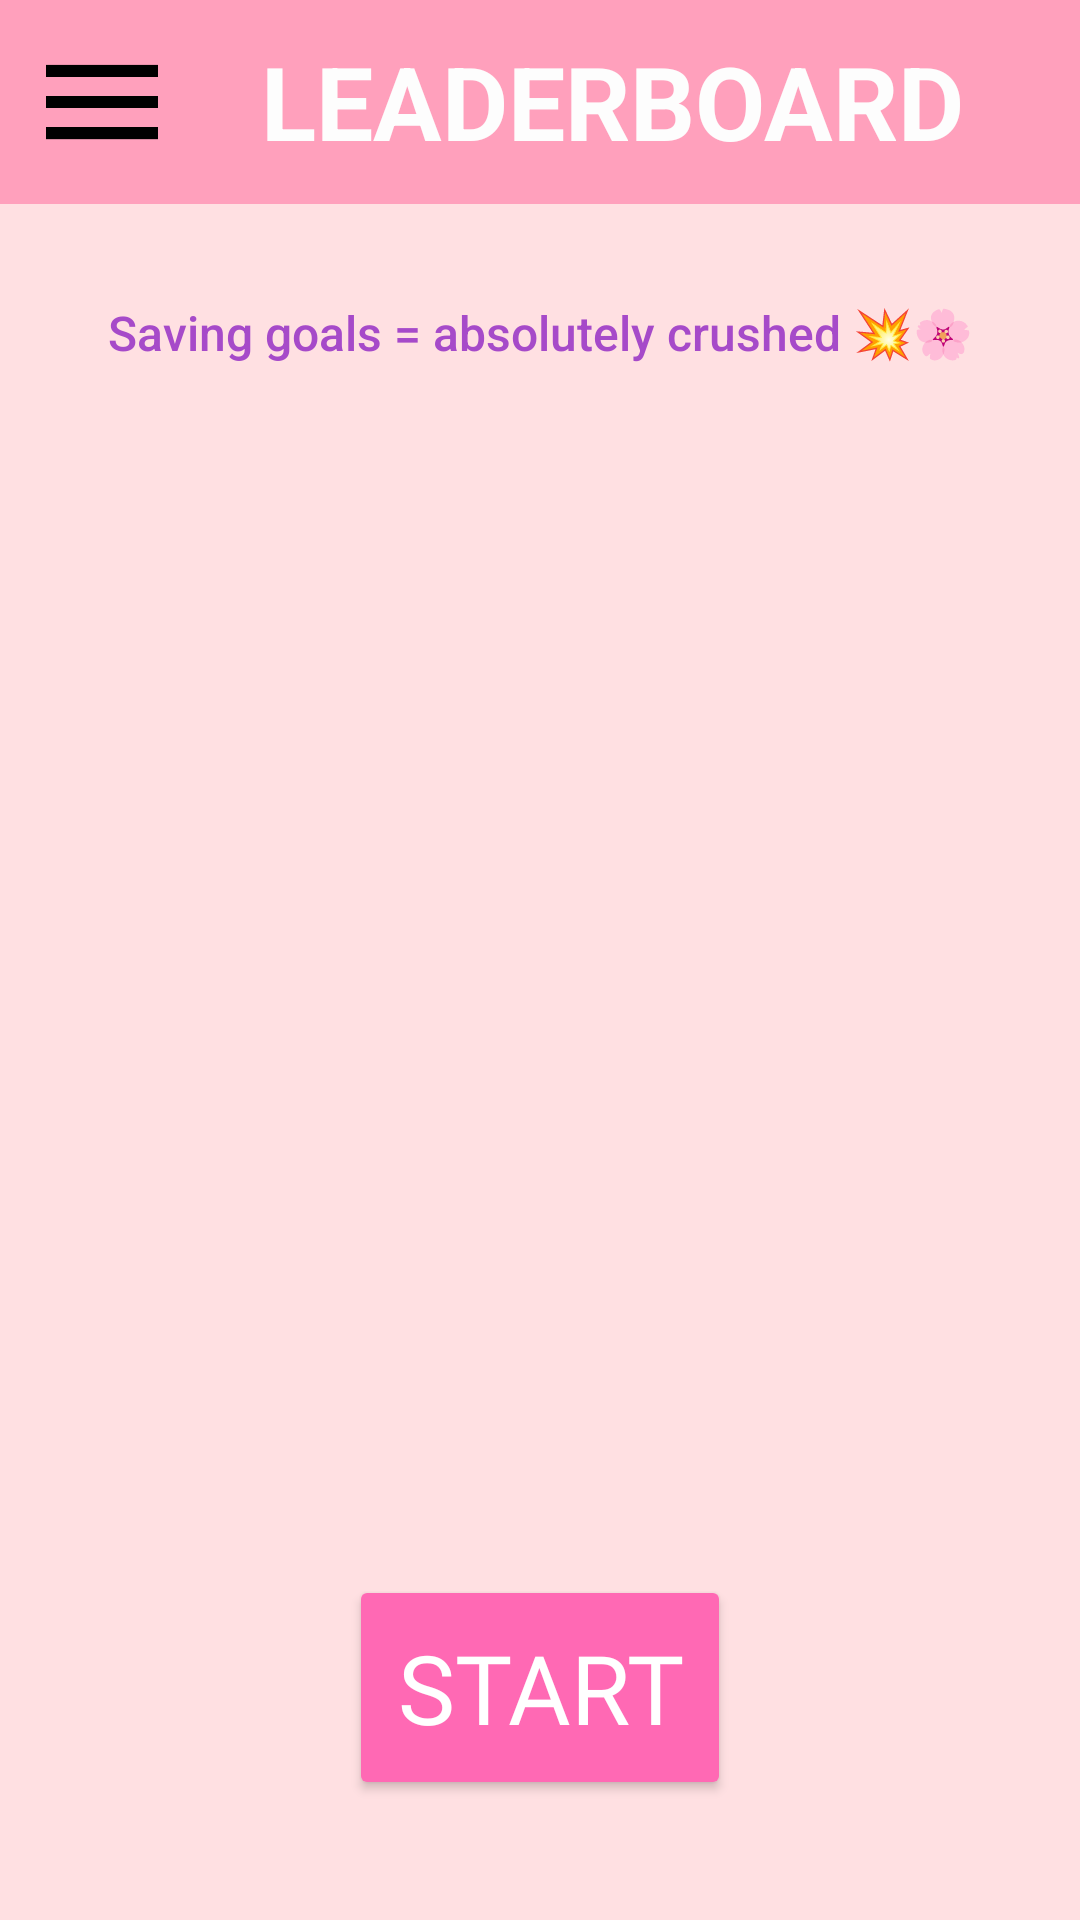

Named icons in this screenshot (1080w x 1920h) and their bounding boxes, (x1, y1, x2, y2):
Menu: (46, 65, 158, 140)
